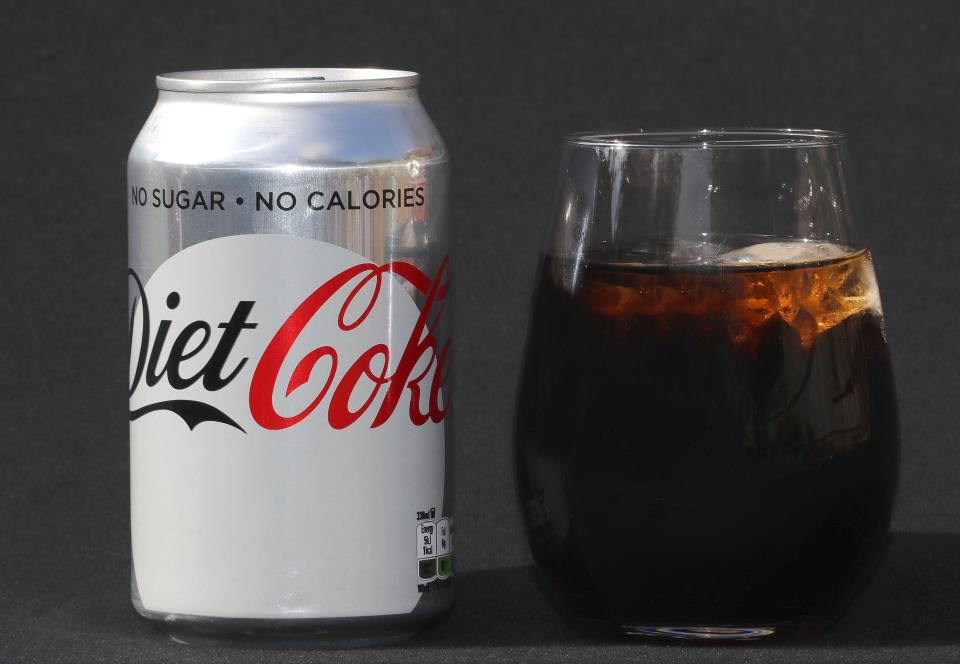can: (106, 58, 478, 642)
